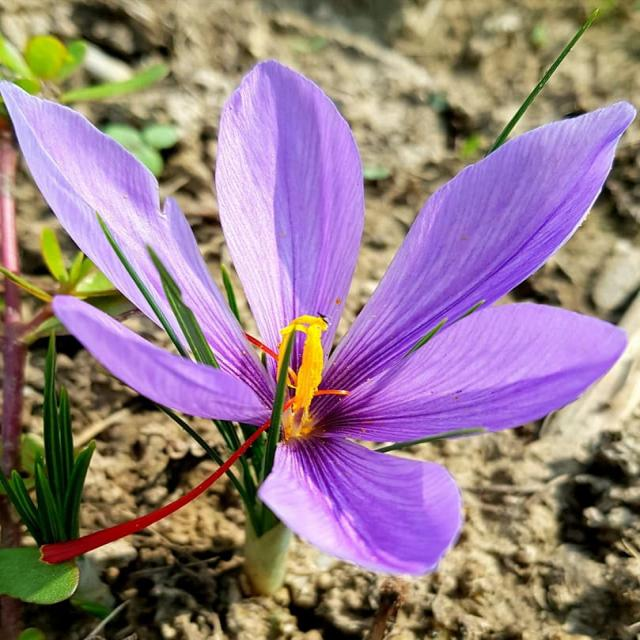saffron open: (3, 62, 633, 575)
